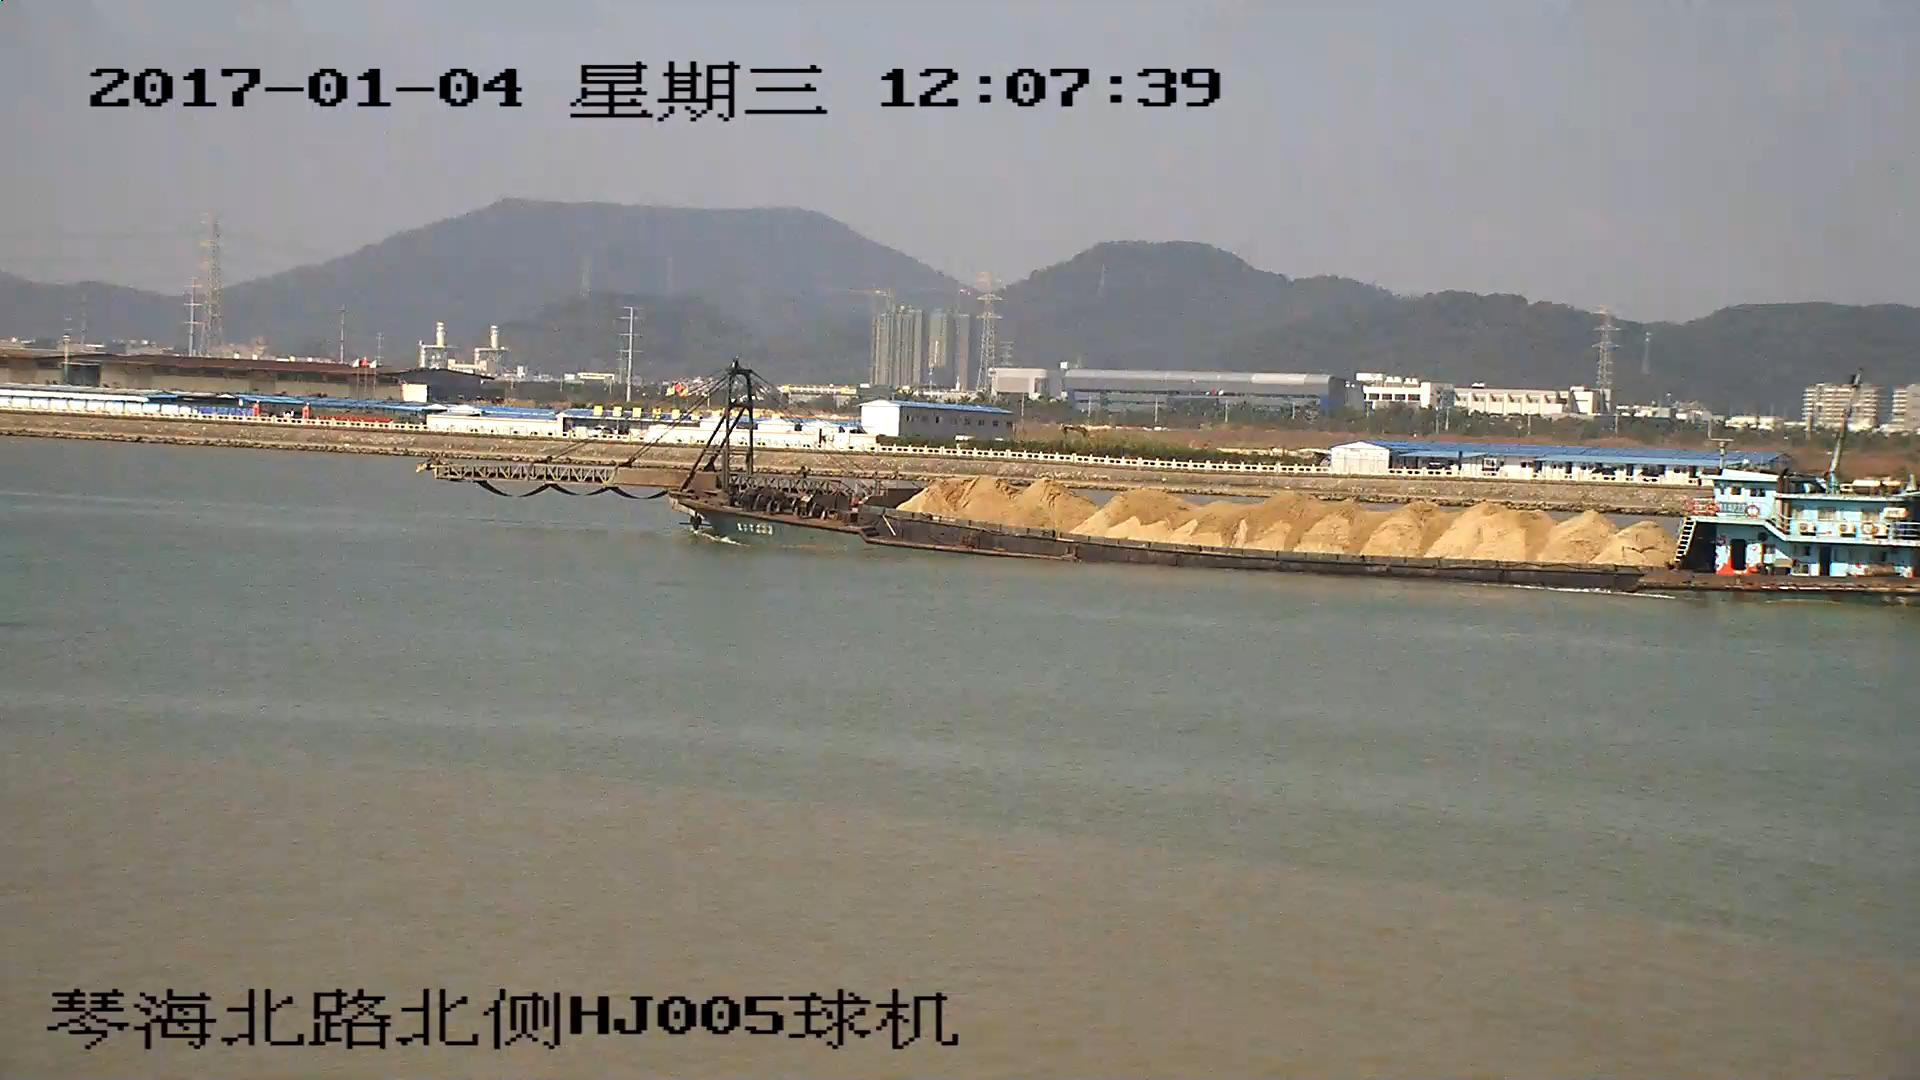ore carrier: (431, 361, 1920, 599)
